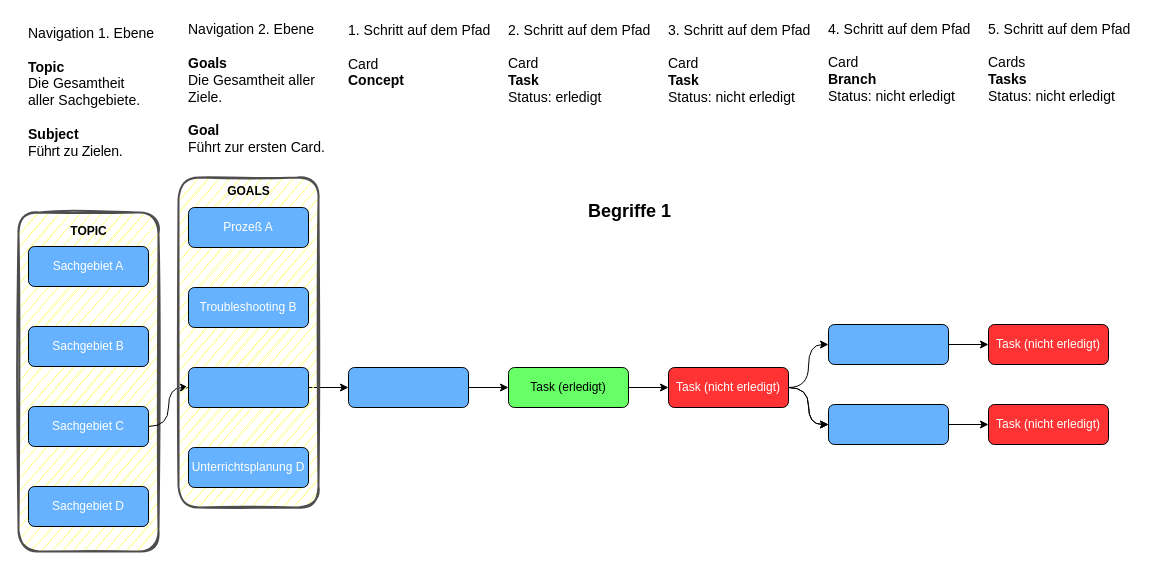
Image size: 1165x569. Some labels were removed from this diagram. The shapes that lost their labels are listed below. From the top down, each one's centre as x and y in pixels, then its label:
pixel 888 344: Option 1
pixel 248 387: Aufgabe C
pixel 408 387: Concept
pixel 888 424: Option 2
